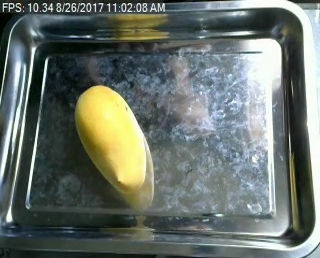Mango: (75, 81, 154, 197)
